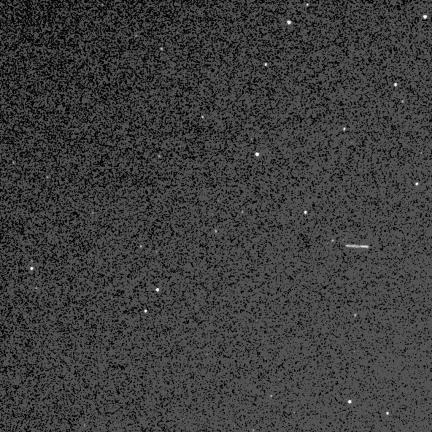blob: (343, 127, 347, 132), (255, 153, 260, 157), (423, 15, 427, 19), (160, 47, 164, 51), (30, 267, 34, 271), (387, 412, 390, 416), (145, 310, 148, 314), (287, 21, 291, 24), (395, 83, 398, 87), (13, 162, 16, 165), (416, 183, 419, 186), (215, 230, 218, 233), (304, 211, 307, 214), (355, 314, 357, 317), (349, 400, 351, 403), (202, 116, 204, 119), (156, 289, 159, 291), (265, 63, 267, 66), (141, 246, 143, 248)
